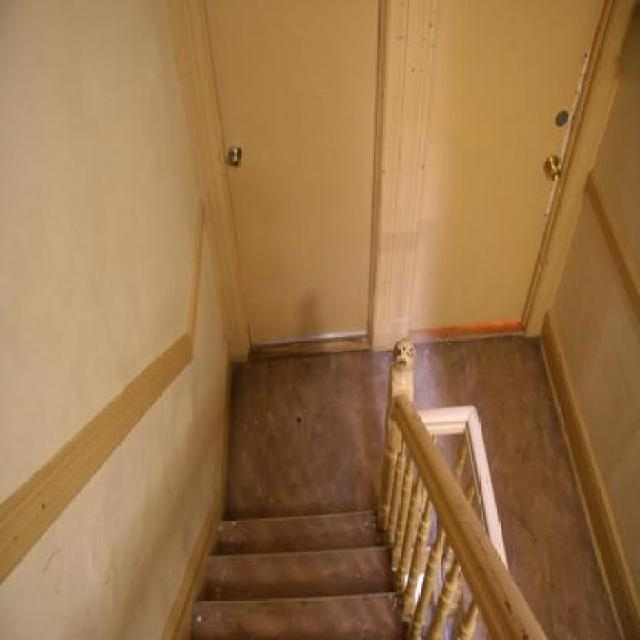stair: (166, 480, 411, 640)
